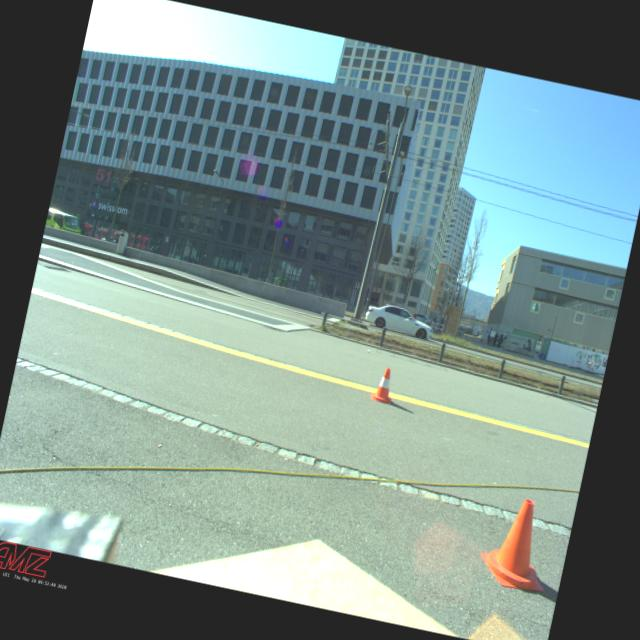orange_cone: (474, 492, 560, 594), (370, 365, 398, 404)
